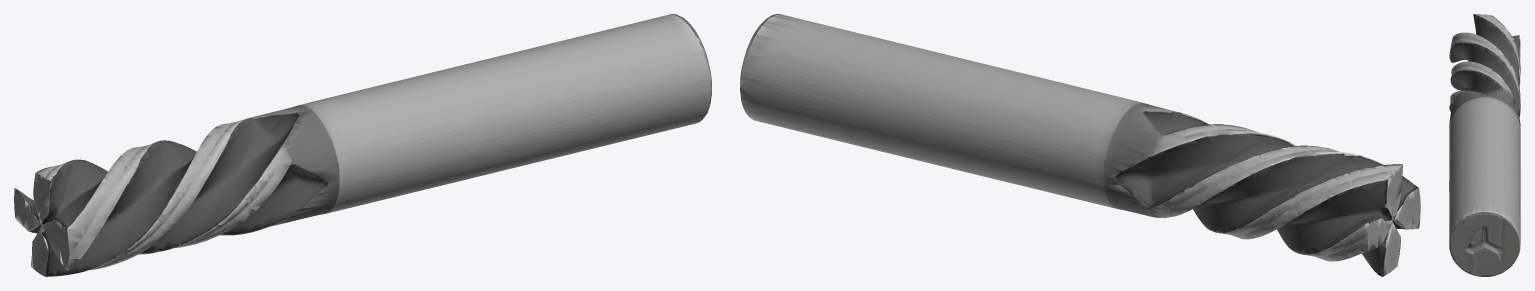
The model's file is tool_100.obj.
The picture shows the model from 3 angles, left to right: view 1: azimuth 30°, elevation 25°; view 2: azimuth 150°, elevation 25°; view 3: azimuth 270°, elevation 25°; orthographic projection. The views are drawn at different scales.
Visible parts, largest first — view 1: tool_100_tripo_normalized; view 2: tool_100_tripo_normalized; view 3: tool_100_tripo_normalized.
Part boxes in pixels (x1,y1,x2,y2): tool_100_tripo_normalized: (14, 14, 711, 276); tool_100_tripo_normalized: (740, 14, 1420, 276); tool_100_tripo_normalized: (1449, 14, 1520, 276).
Bounding box in the file's own units: 94.02 × 14.43 × 14.28.
Materials: 1 (1 with a texture image).
